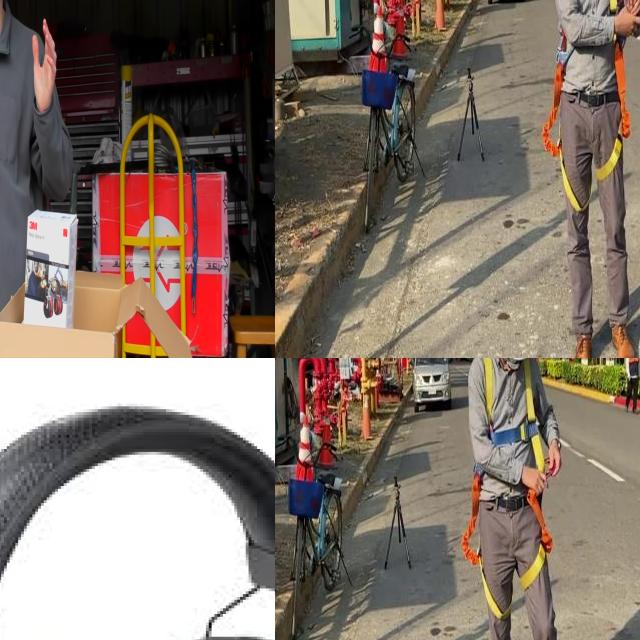Harness: (482, 358, 546, 472), (596, 39, 631, 182), (508, 490, 553, 590), (542, 36, 571, 157), (462, 467, 484, 566), (482, 569, 511, 620), (562, 158, 581, 210)
person: (0, 0, 74, 358)
